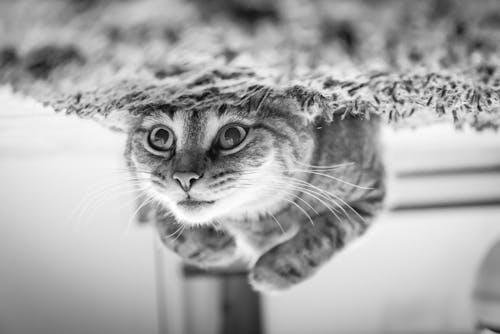kedo: (122, 101, 389, 292)
